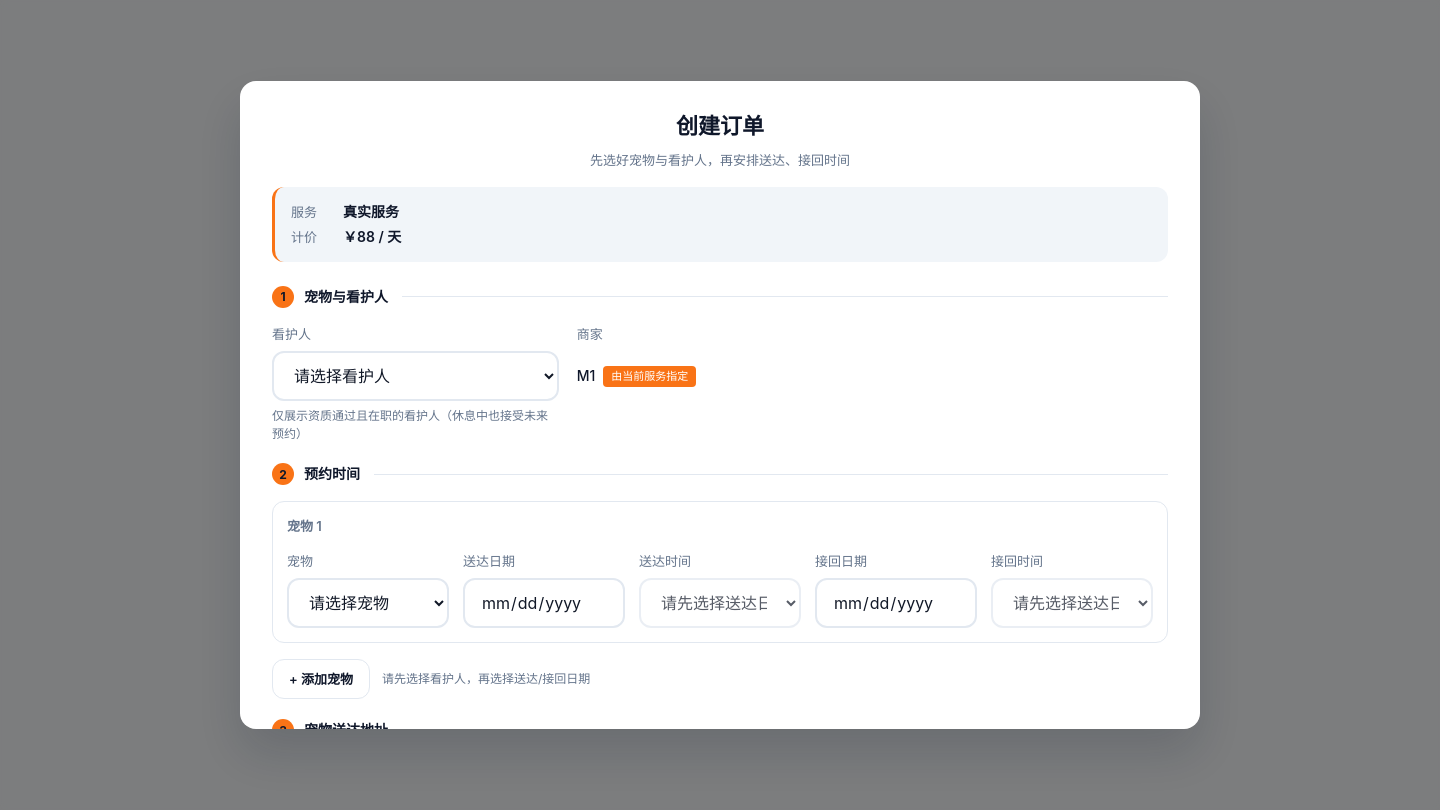
Scenario: CreateOrderDialog booking › F-BKG-007: stale availability response cannot overwrite a newer keeper selection
The width and height of the screenshot is (1440, 810).
Select "K1 ￥88/天 · 当前 1/3" in the dropdown labelled "看护人 仅展示资质通过且在职的看护人（休息中也接受未来预约）" at (415, 376), box top-left (272, 351), bottom-right (559, 401)
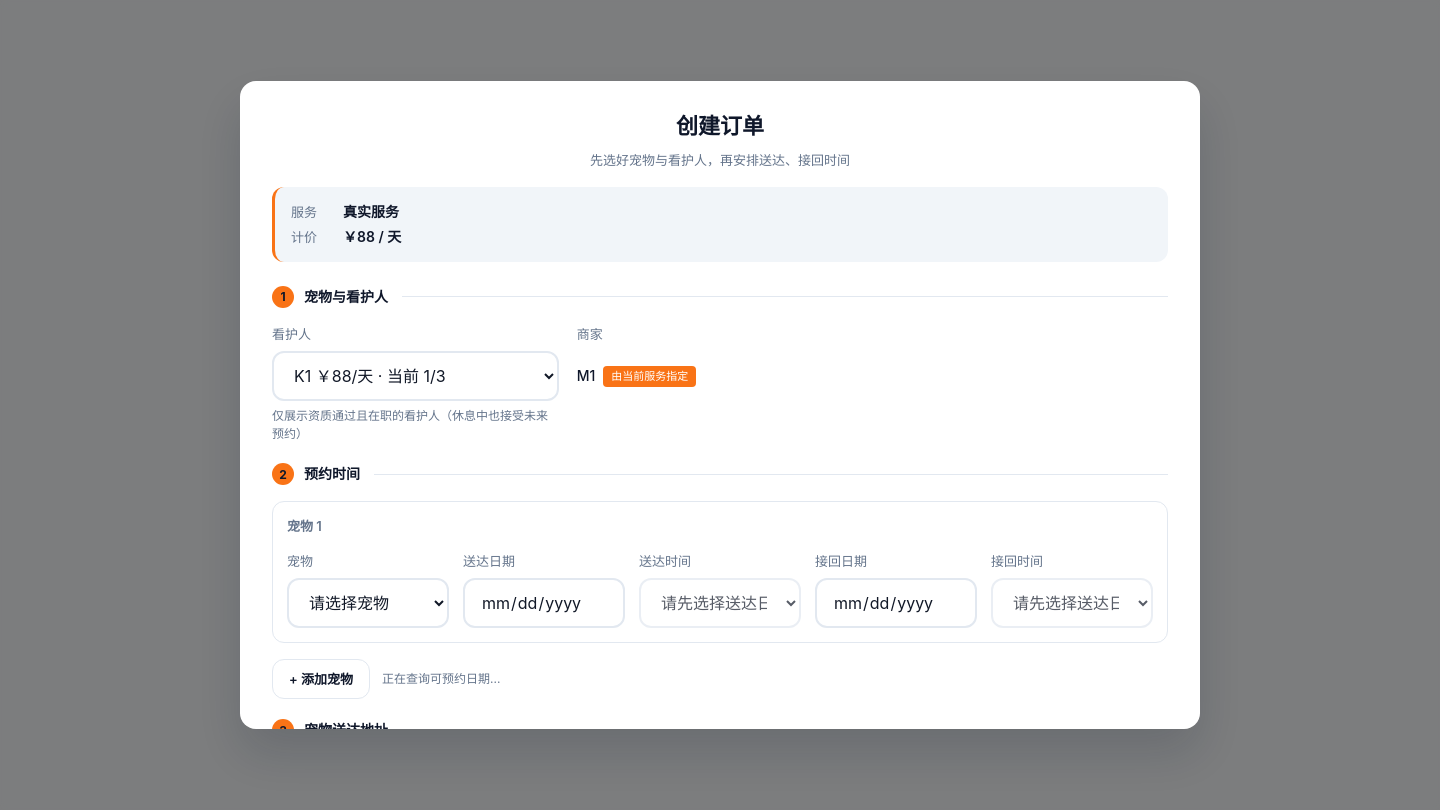
Select "K2 ￥88/天 · 当前 0/2" in the dropdown labelled "看护人 仅展示资质通过且在职的看护人（休息中也接受未来预约）" at (415, 376), box top-left (272, 351), bottom-right (559, 401)
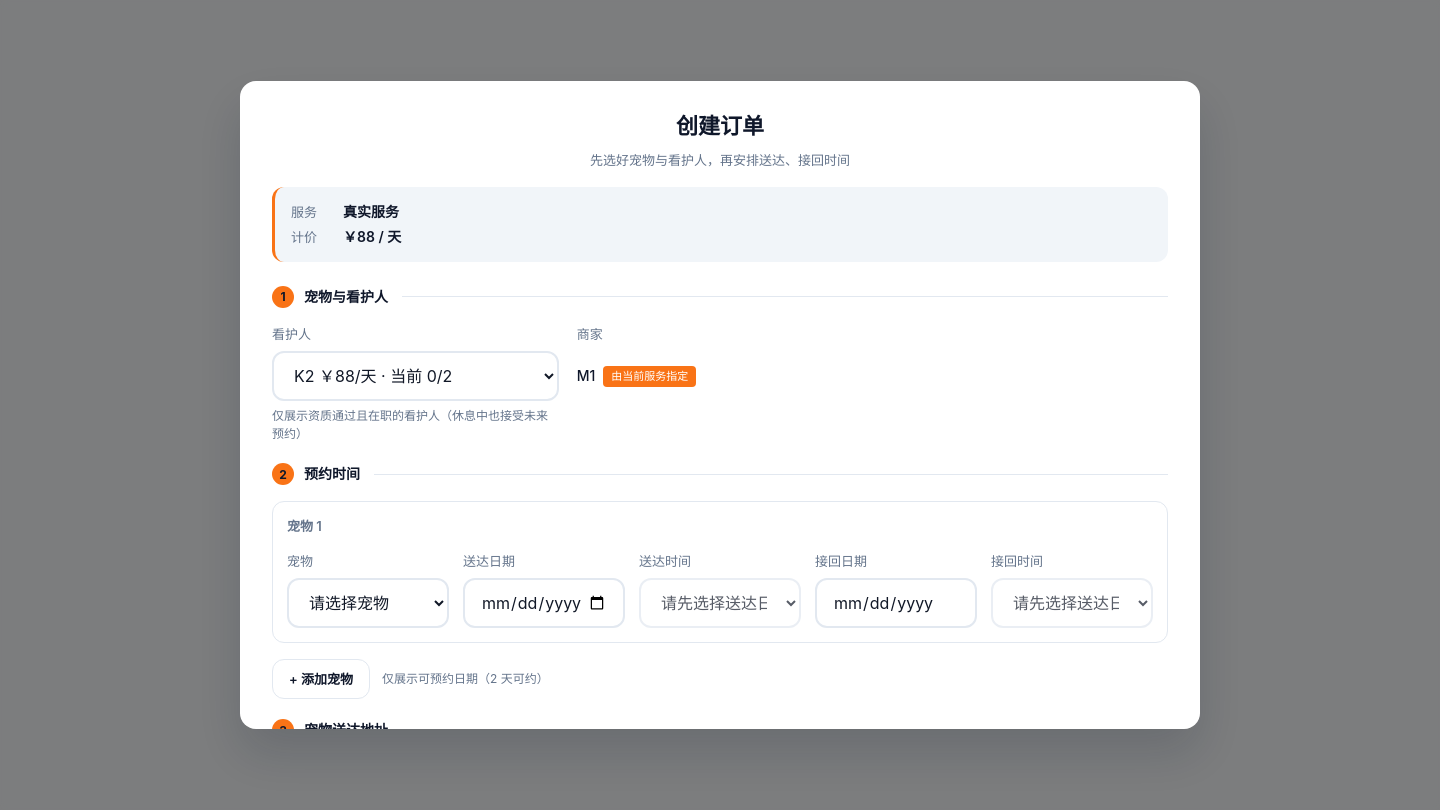
Result: the text "仅展示可预约日期（2 天可约）" is shown at top-left (382, 670), bottom-right (549, 688)
